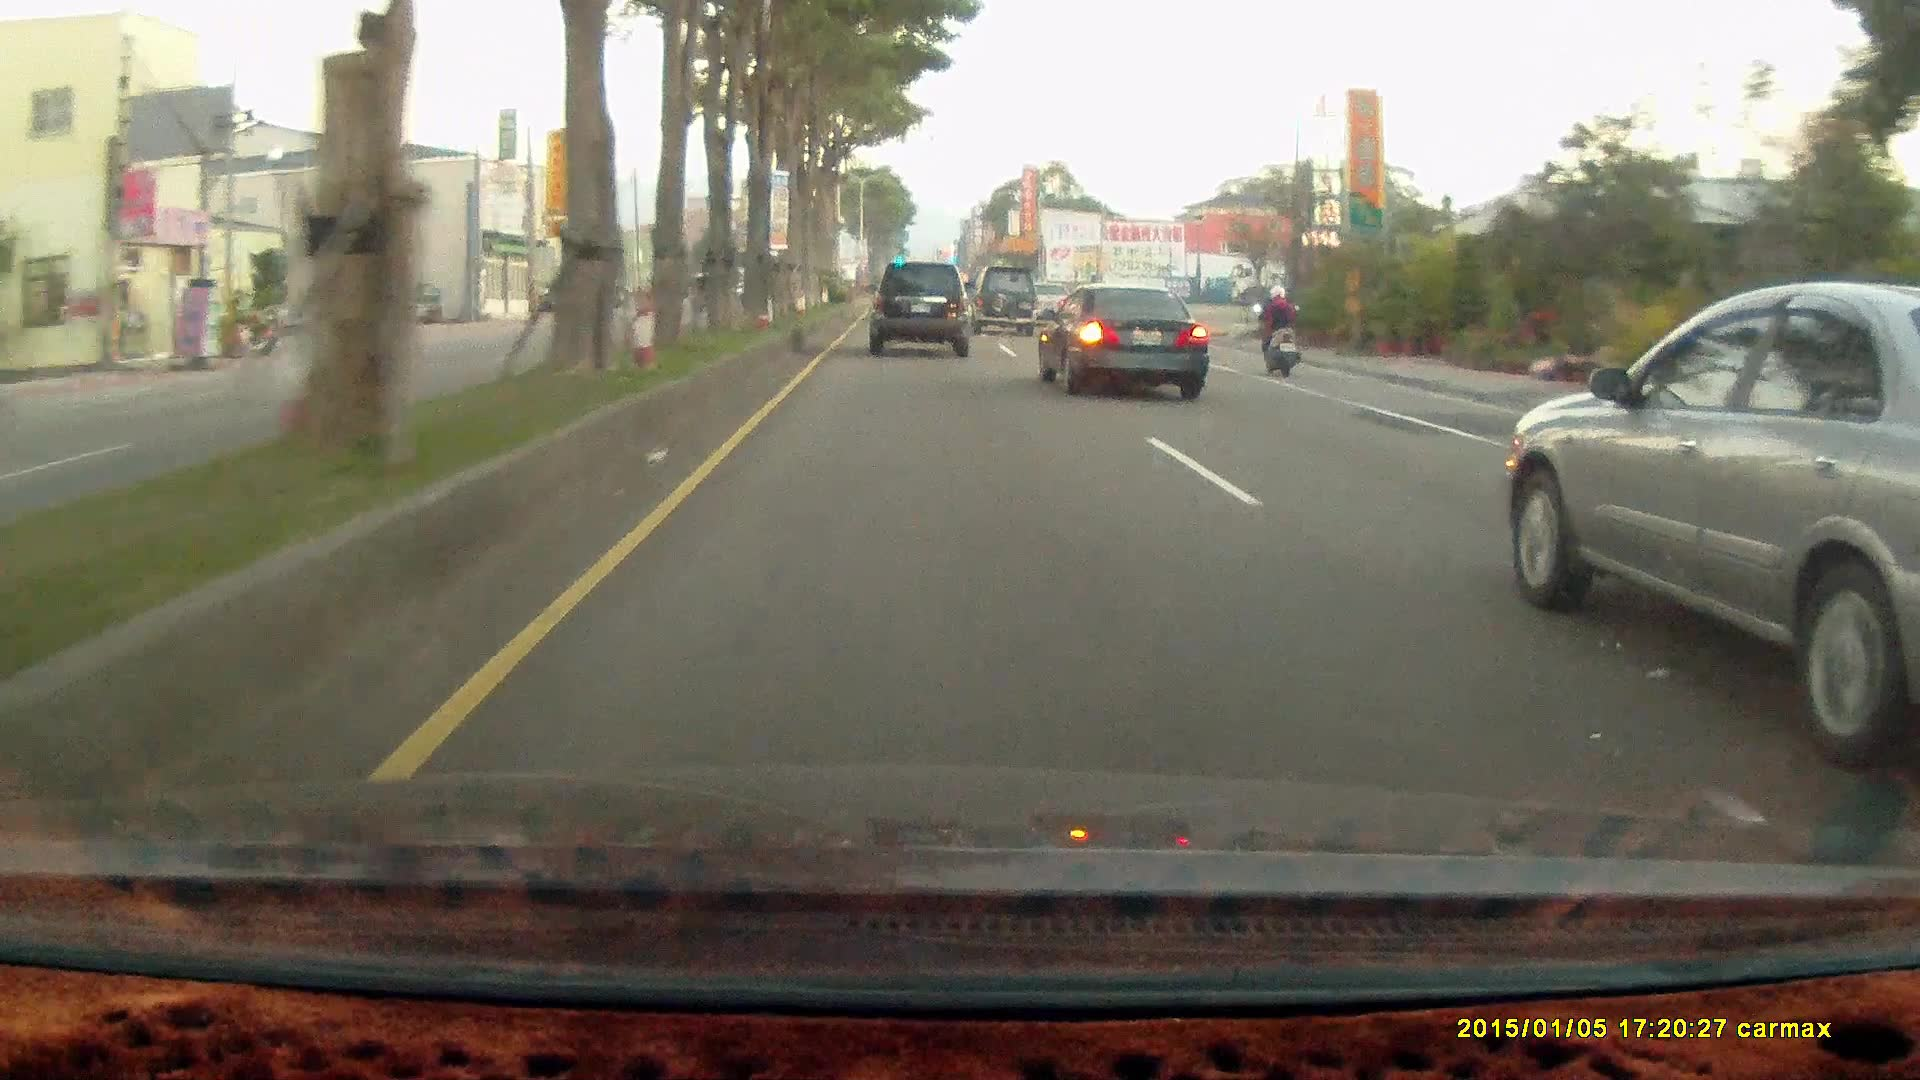rider: (1246, 273, 1312, 390), (1248, 281, 1301, 376)
vehicle: (1493, 290, 1919, 782), (1034, 289, 1212, 405), (1037, 283, 1208, 402), (864, 259, 968, 356), (1229, 260, 1435, 309), (868, 262, 972, 359), (967, 264, 1038, 336), (966, 270, 1037, 344), (352, 281, 444, 328)
